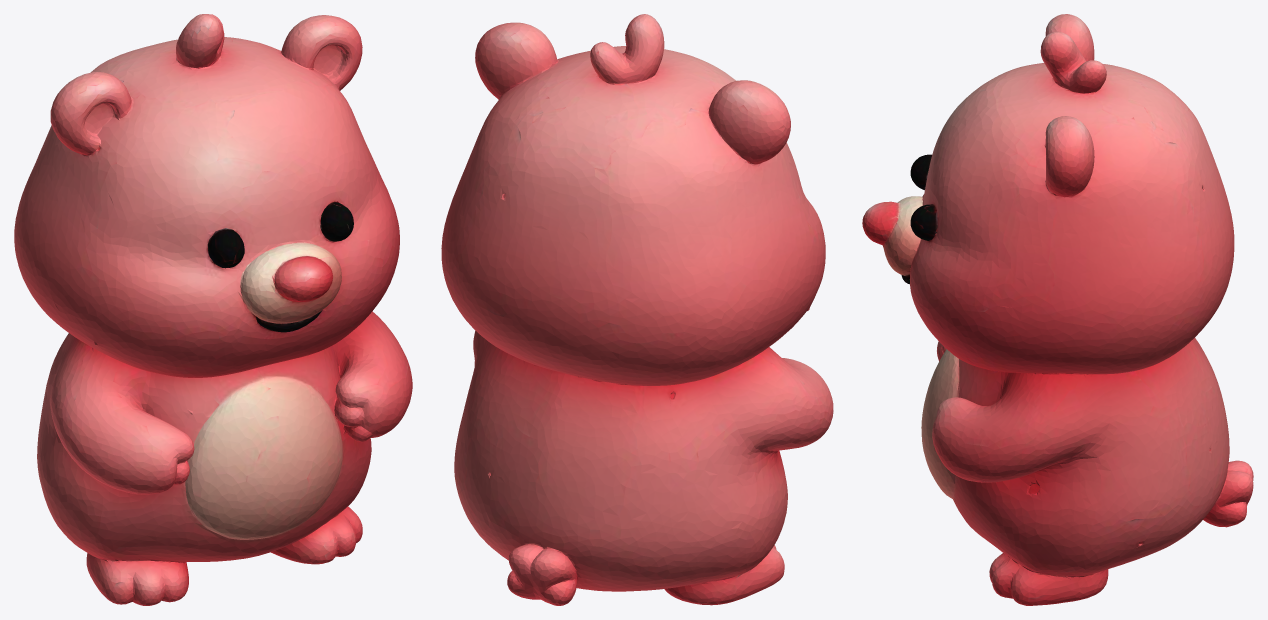
Rendered from AnimePistol_Textured_00083_.glb.
3 renders of one model, left to right at view 1: azimuth 30°, elevation 25°; view 2: azimuth 150°, elevation 25°; view 3: azimuth 270°, elevation 25°, orthographic. The views are drawn at different scales.
Parts seen in each view (by area): view 1: world; view 2: world; view 3: world.
Part boxes in pixels (box(x1,y1,x2,y2)): world: box(14, 14, 412, 605); world: box(441, 14, 833, 605); world: box(862, 14, 1253, 605).
Bounding box in the file's own units: 0.6322 × 1 × 0.6878.
1 material, 1 textured.
